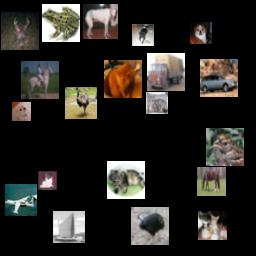airplane: (5, 184, 37, 216)
automobile: (200, 59, 238, 97)
bird: (131, 207, 169, 245), (206, 128, 244, 166), (65, 87, 97, 119)
cat: (107, 161, 145, 199), (104, 60, 142, 98), (198, 211, 227, 240), (146, 92, 168, 114)
deer: (1, 12, 39, 50)
dog: (83, 4, 118, 39), (132, 24, 154, 46), (190, 22, 212, 44), (38, 171, 57, 190), (12, 102, 31, 121)
frog: (42, 4, 80, 42)
ship: (53, 211, 85, 243)
truck: (147, 53, 185, 91)
